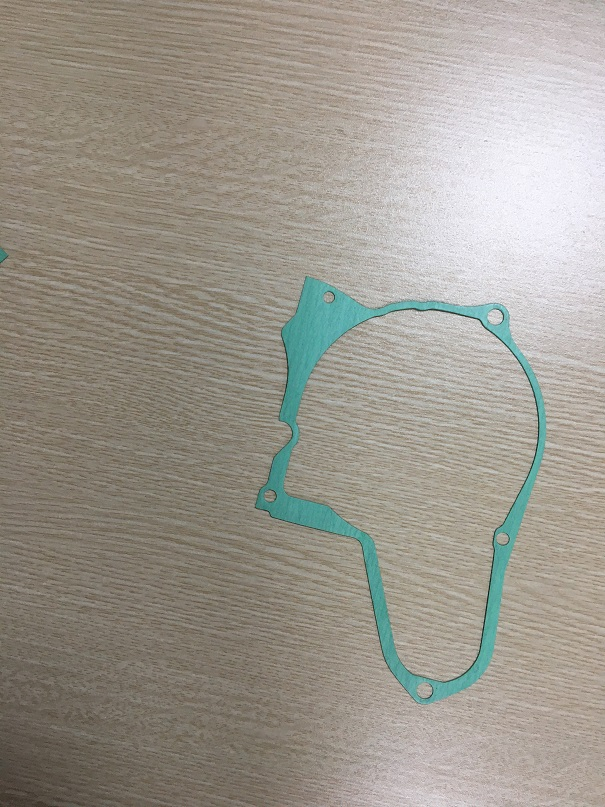type1: (235, 250, 561, 719)
